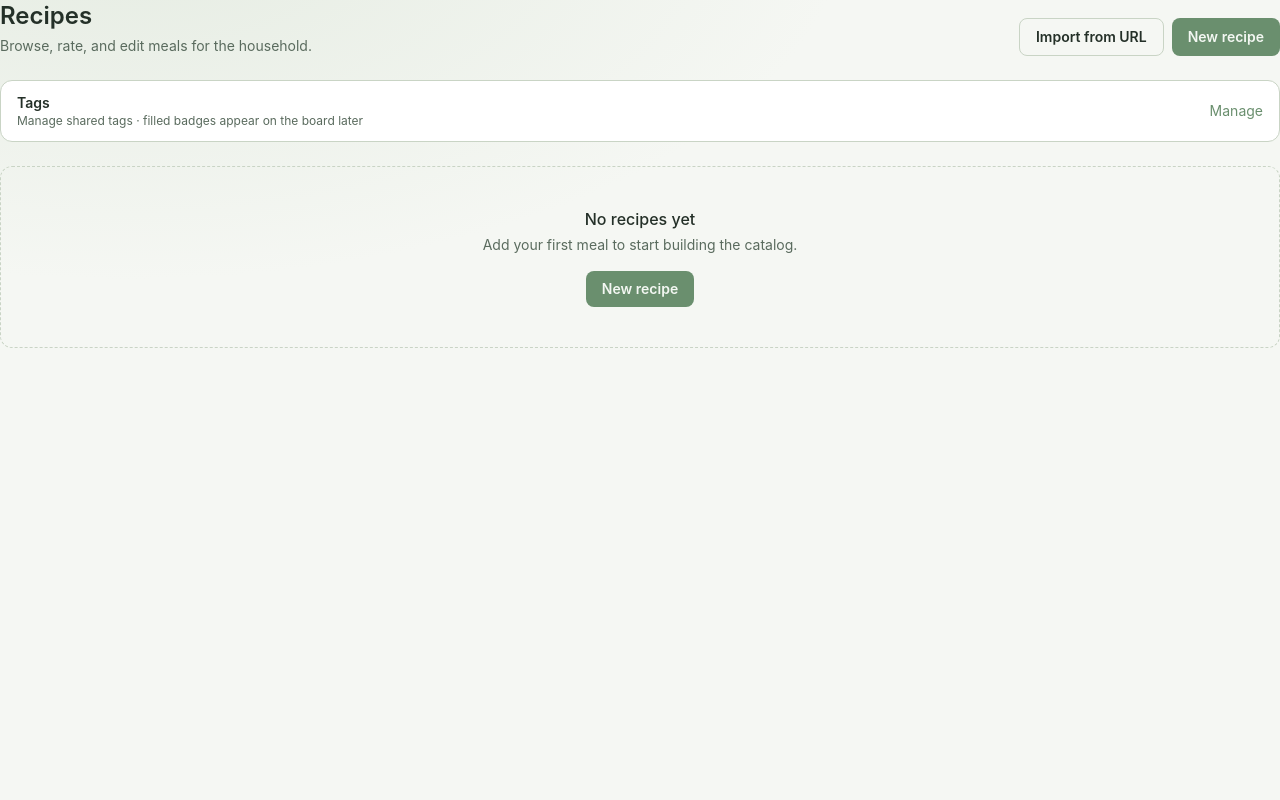
Test case: RecipesPage › creates a recipe from the form
Expected: the text "No recipes yet" is shown, [585, 209, 695, 229]
Step 1. Click the 1st button "New recipe" → (1226, 37), box [1172, 18, 1279, 56]
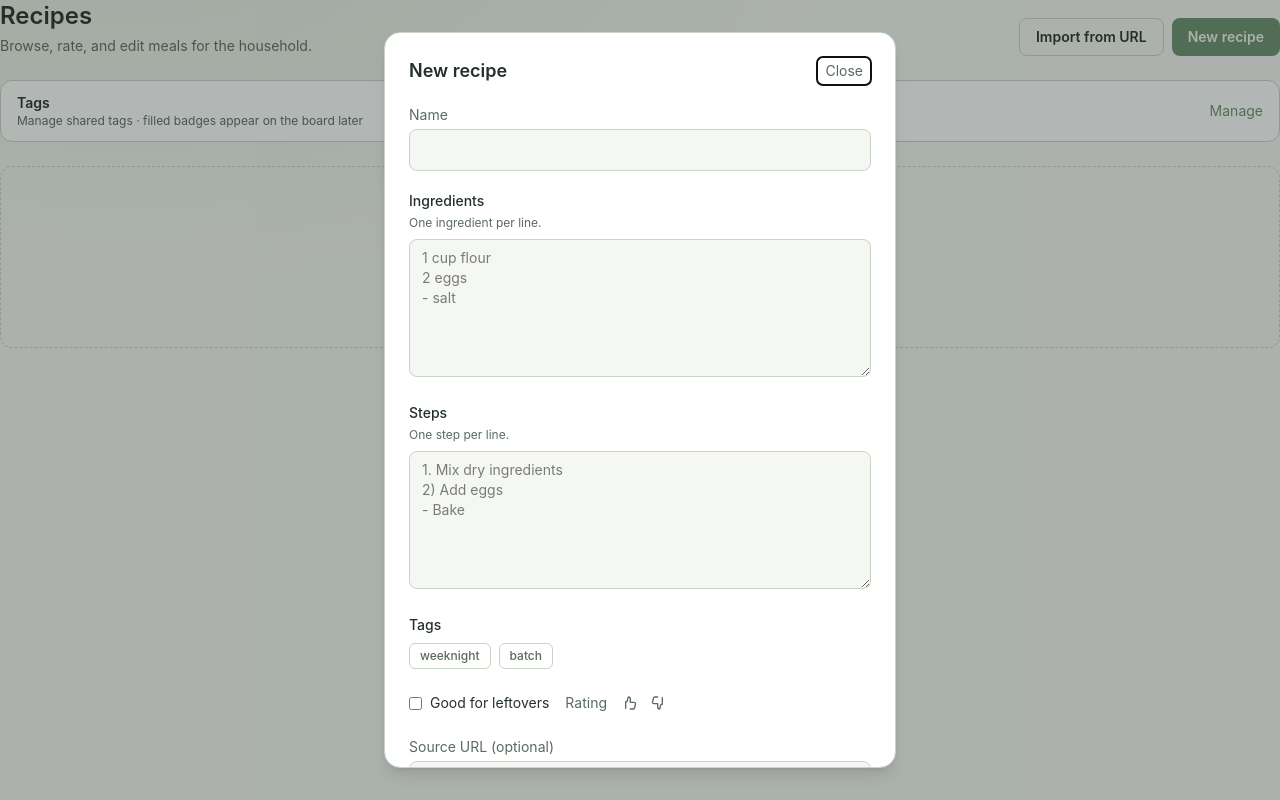
Step 2. Type "Soup" into the field labelled "Name" → (640, 150), box [409, 129, 871, 171]
(page scrolled)
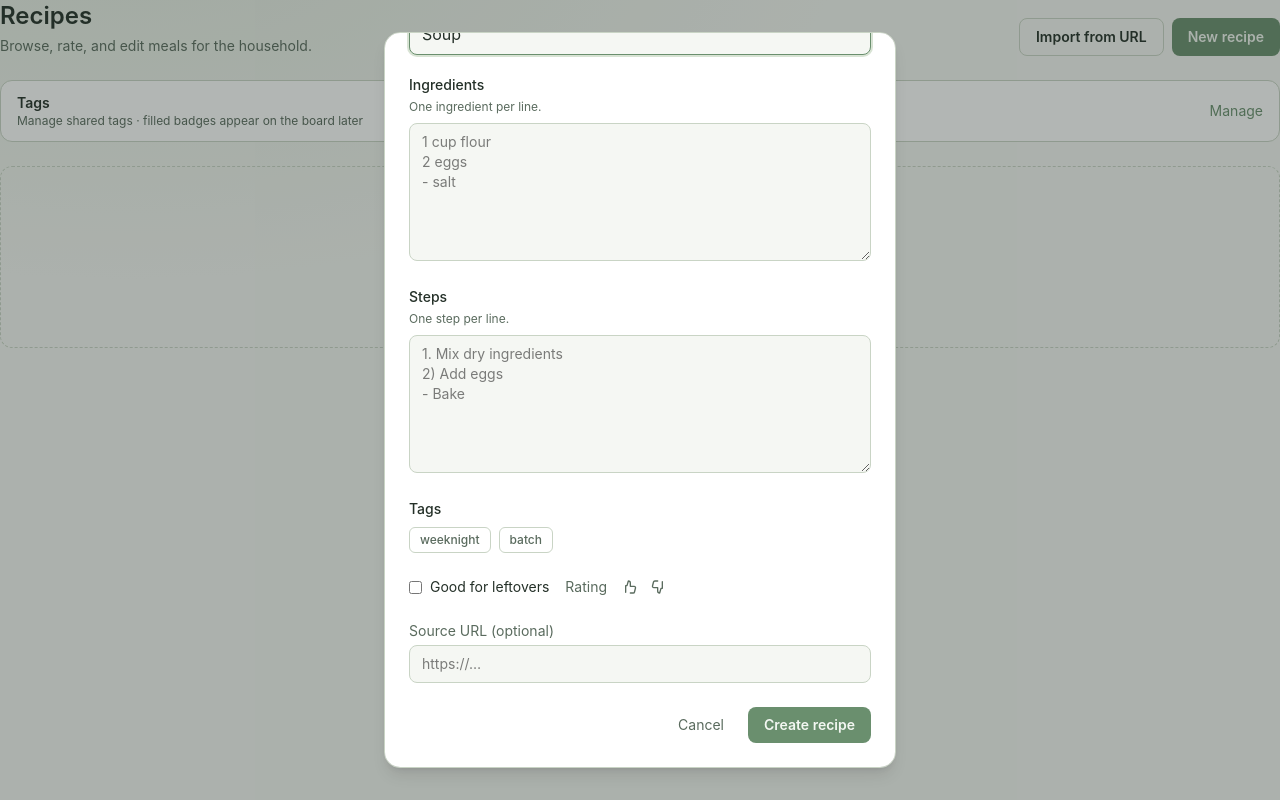
Step 3. Click the button "Create recipe" → (810, 725), box [748, 707, 871, 743]
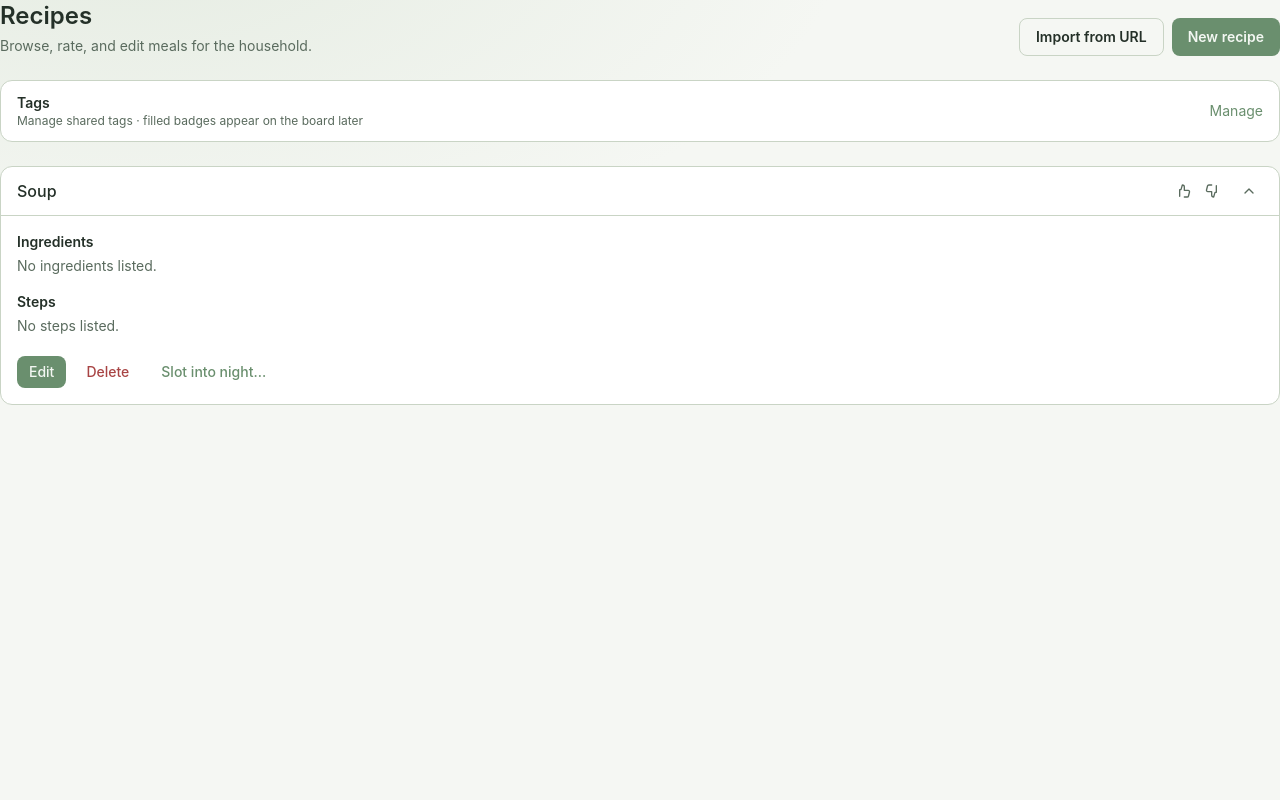
Result: the text "Soup" is shown at [17, 179, 56, 203]
